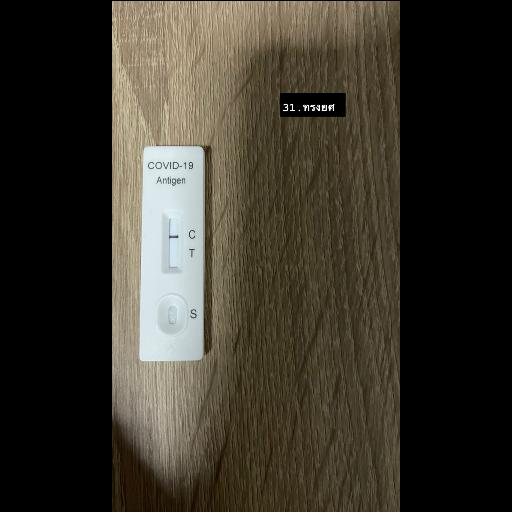Neg: (142, 145, 202, 359)
